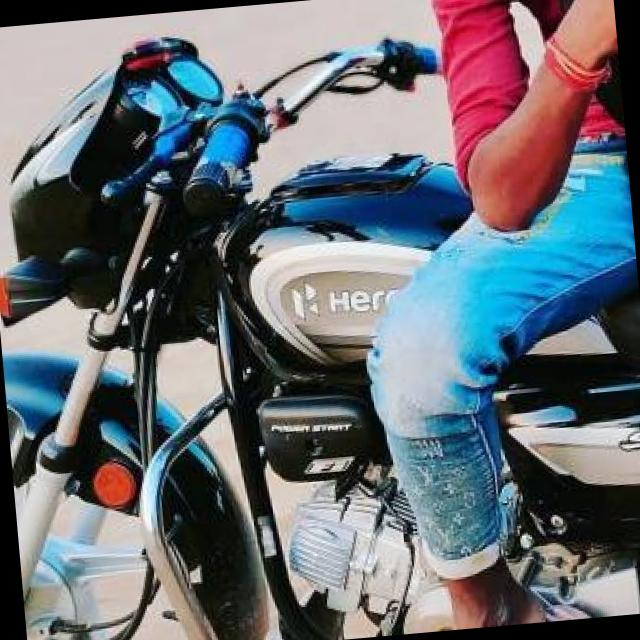Guns: (571, 0, 614, 14)
